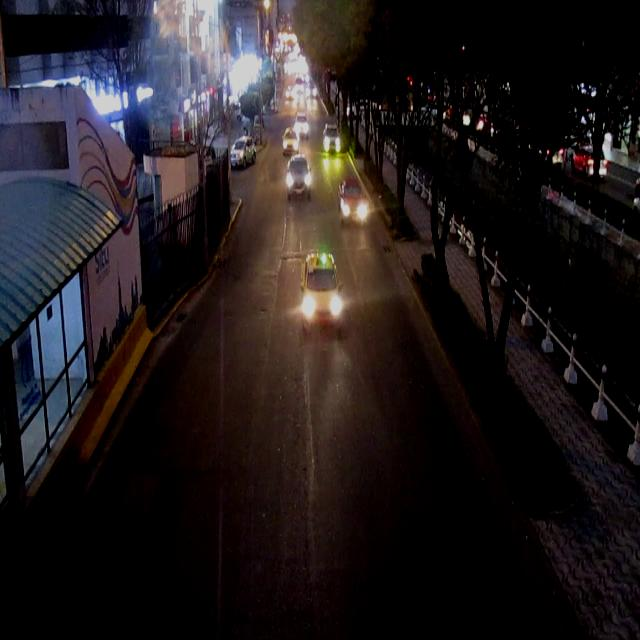CMT: (339, 180, 367, 224)
SED: (300, 252, 338, 330), (286, 157, 310, 199), (282, 130, 298, 154)
SUV: (232, 139, 256, 170)
